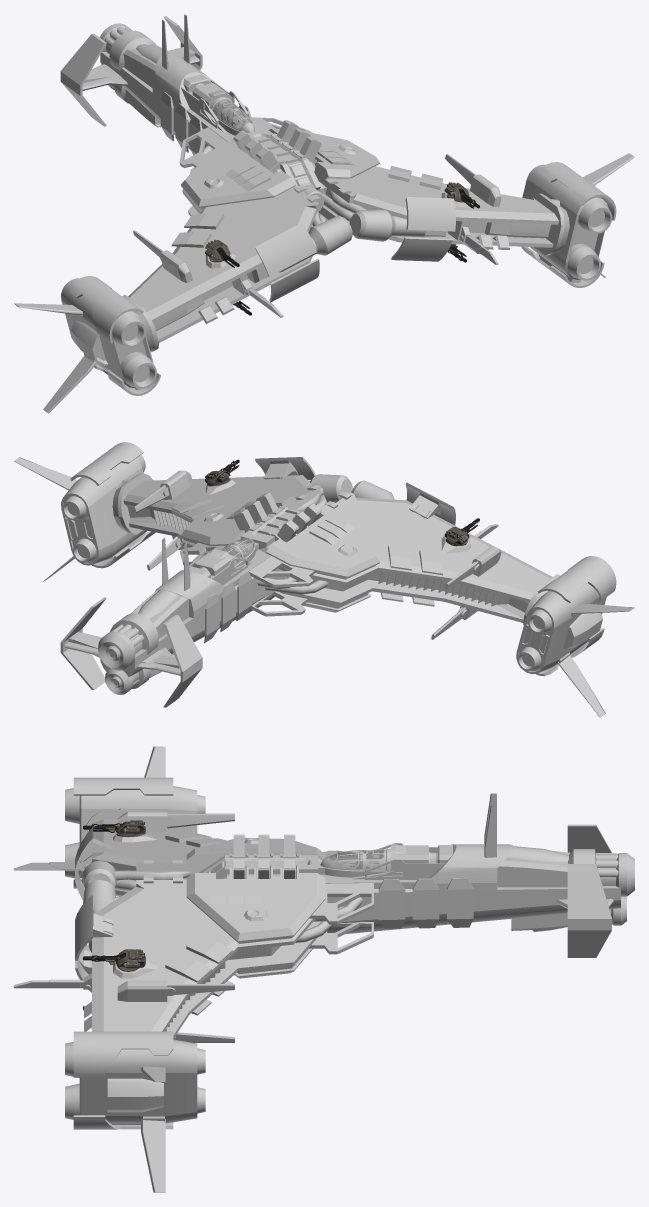
Rendered from Mjolnir.fbx.
The picture shows the model from 3 angles, top to bottom: view 1: azimuth 30°, elevation 25°; view 2: azimuth 150°, elevation 25°; view 3: azimuth 270°, elevation 25°; orthographic projection. The views are drawn at different scales.
Parts seen in each view (by area): view 1: polySurface881, polySurface880, pCylinder1; view 2: polySurface881, polySurface880; view 3: polySurface881, polySurface880, pCylinder1.
Part boxes in pixels (x1,y1,x2,y2): polySurface881: (14, 14, 634, 413); polySurface880: (205, 182, 479, 315); pCylinder1: (215, 100, 252, 129); polySurface881: (14, 442, 634, 717); polySurface880: (205, 459, 479, 546); polySurface881: (14, 746, 634, 1192); polySurface880: (83, 820, 145, 1009); pCylinder1: (329, 850, 384, 869).
Bounding box in the file's own units: 6.52 × 2.19 × 5.11.
